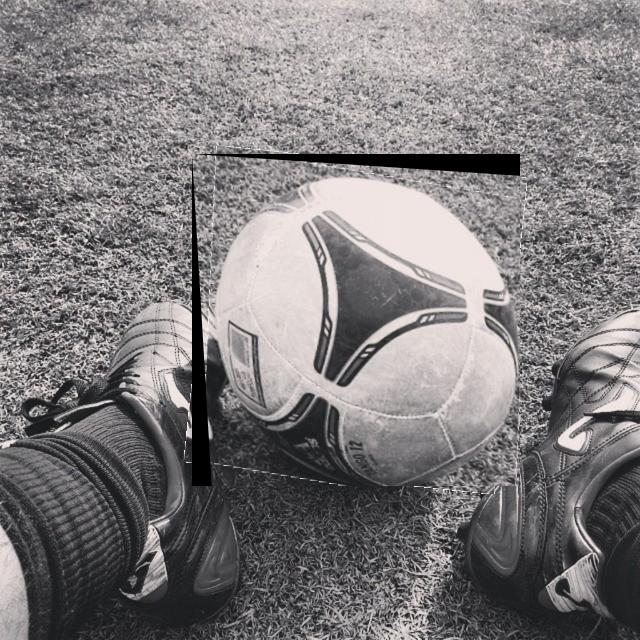Football: (192, 154, 520, 486)
